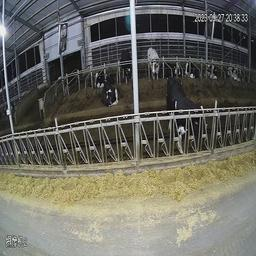cow: (164, 74, 219, 174), (99, 77, 123, 110), (145, 41, 161, 82), (116, 44, 131, 82), (227, 57, 245, 83), (204, 58, 222, 83), (90, 66, 109, 89), (183, 55, 195, 76)
